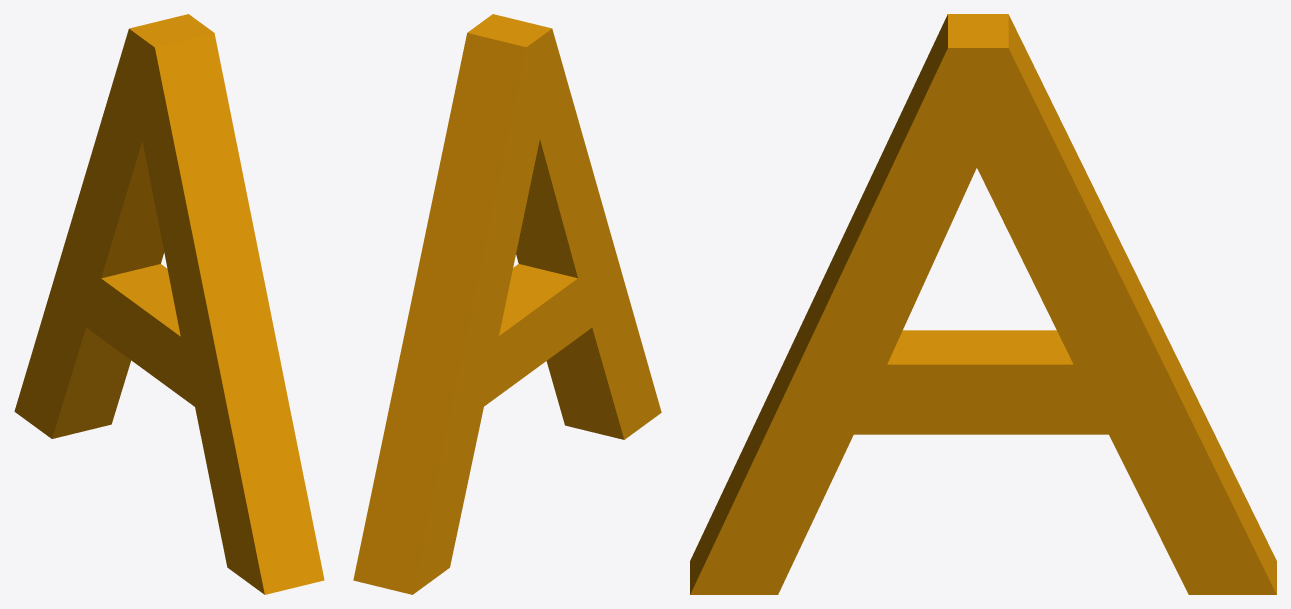
The model's file is letter(a).fbx.
3 views of the same model, side by side, from view 1: azimuth 30°, elevation 25°; view 2: azimuth 150°, elevation 25°; view 3: azimuth 270°, elevation 25° (orthographic). The views are drawn at different scales.
Parts seen in each view (by area): view 1: Text; view 2: Text; view 3: Text.
Part boxes in pixels (left/top/right/bottom): Text: left=14, top=14, right=324, bottom=594; Text: left=353, top=14, right=661, bottom=594; Text: left=690, top=14, right=1276, bottom=594.
Size of the model in its own units: 9.18 by 68.6 by 66.7.
